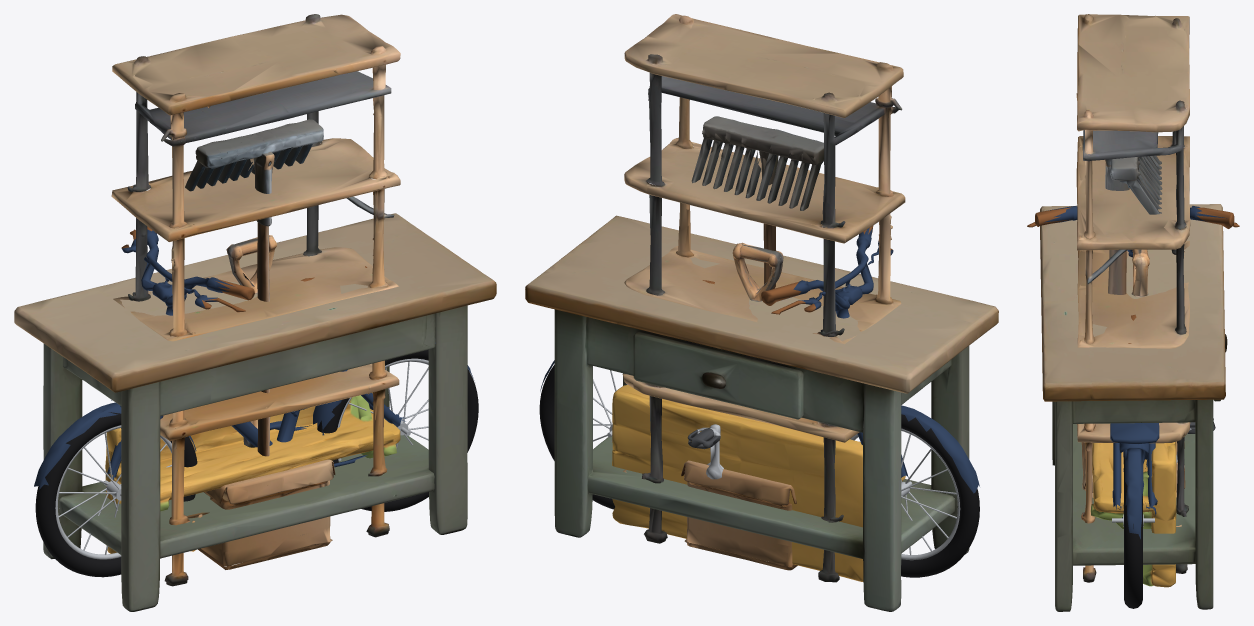
Rendered from garage.glb.
3 renders of one model, left to right at view 1: azimuth 30°, elevation 25°; view 2: azimuth 150°, elevation 25°; view 3: azimuth 270°, elevation 25°, orthographic. The views are drawn at different scales.
Visible parts, largest first — view 1: etabli, etagere-garage, rangement-outils, rateau, velo, carton, roue-avant, roue-arriere, beche; view 2: etabli, etagere-garage, rangement-outils, rateau, carton, roue-avant, velo, roue-arriere, beche, pedalier; view 3: etabli, etagere-garage, rangement-outils, velo, rateau, roue-arriere, beche, carton.
Boxes of the visible parts, box(x1,y1,x2,y2) form: etabli: box(14, 213, 496, 611); etagere-garage: box(111, 14, 400, 586); rangement-outils: box(105, 392, 400, 553); rateau: box(185, 119, 323, 456); velo: box(34, 226, 474, 489); carton: box(198, 459, 335, 569); roue-avant: box(35, 412, 197, 577); roue-arriere: box(317, 349, 478, 511); beche: box(226, 235, 277, 447); etabli: box(525, 215, 998, 611); etagere-garage: box(622, 14, 905, 582); rangement-outils: box(612, 385, 905, 581); rateau: box(691, 116, 823, 289); carton: box(681, 460, 797, 570); roue-avant: box(850, 414, 979, 577); velo: box(540, 226, 979, 493); roue-arriere: box(539, 364, 627, 509); beche: box(732, 242, 783, 301); pedalier: box(687, 424, 723, 479); etabli: box(1040, 204, 1227, 611); etagere-garage: box(1076, 14, 1190, 582); rangement-outils: box(1090, 442, 1176, 587); velo: box(1027, 206, 1239, 539); rateau: box(1105, 155, 1162, 294); roue-arriere: box(1112, 452, 1154, 608); beche: box(1131, 249, 1149, 296); carton: box(1081, 441, 1185, 497).
Bounding box in the file's own units: 1.69 × 1.81 × 0.7379.
Materials: 8 (8 with a texture image).
